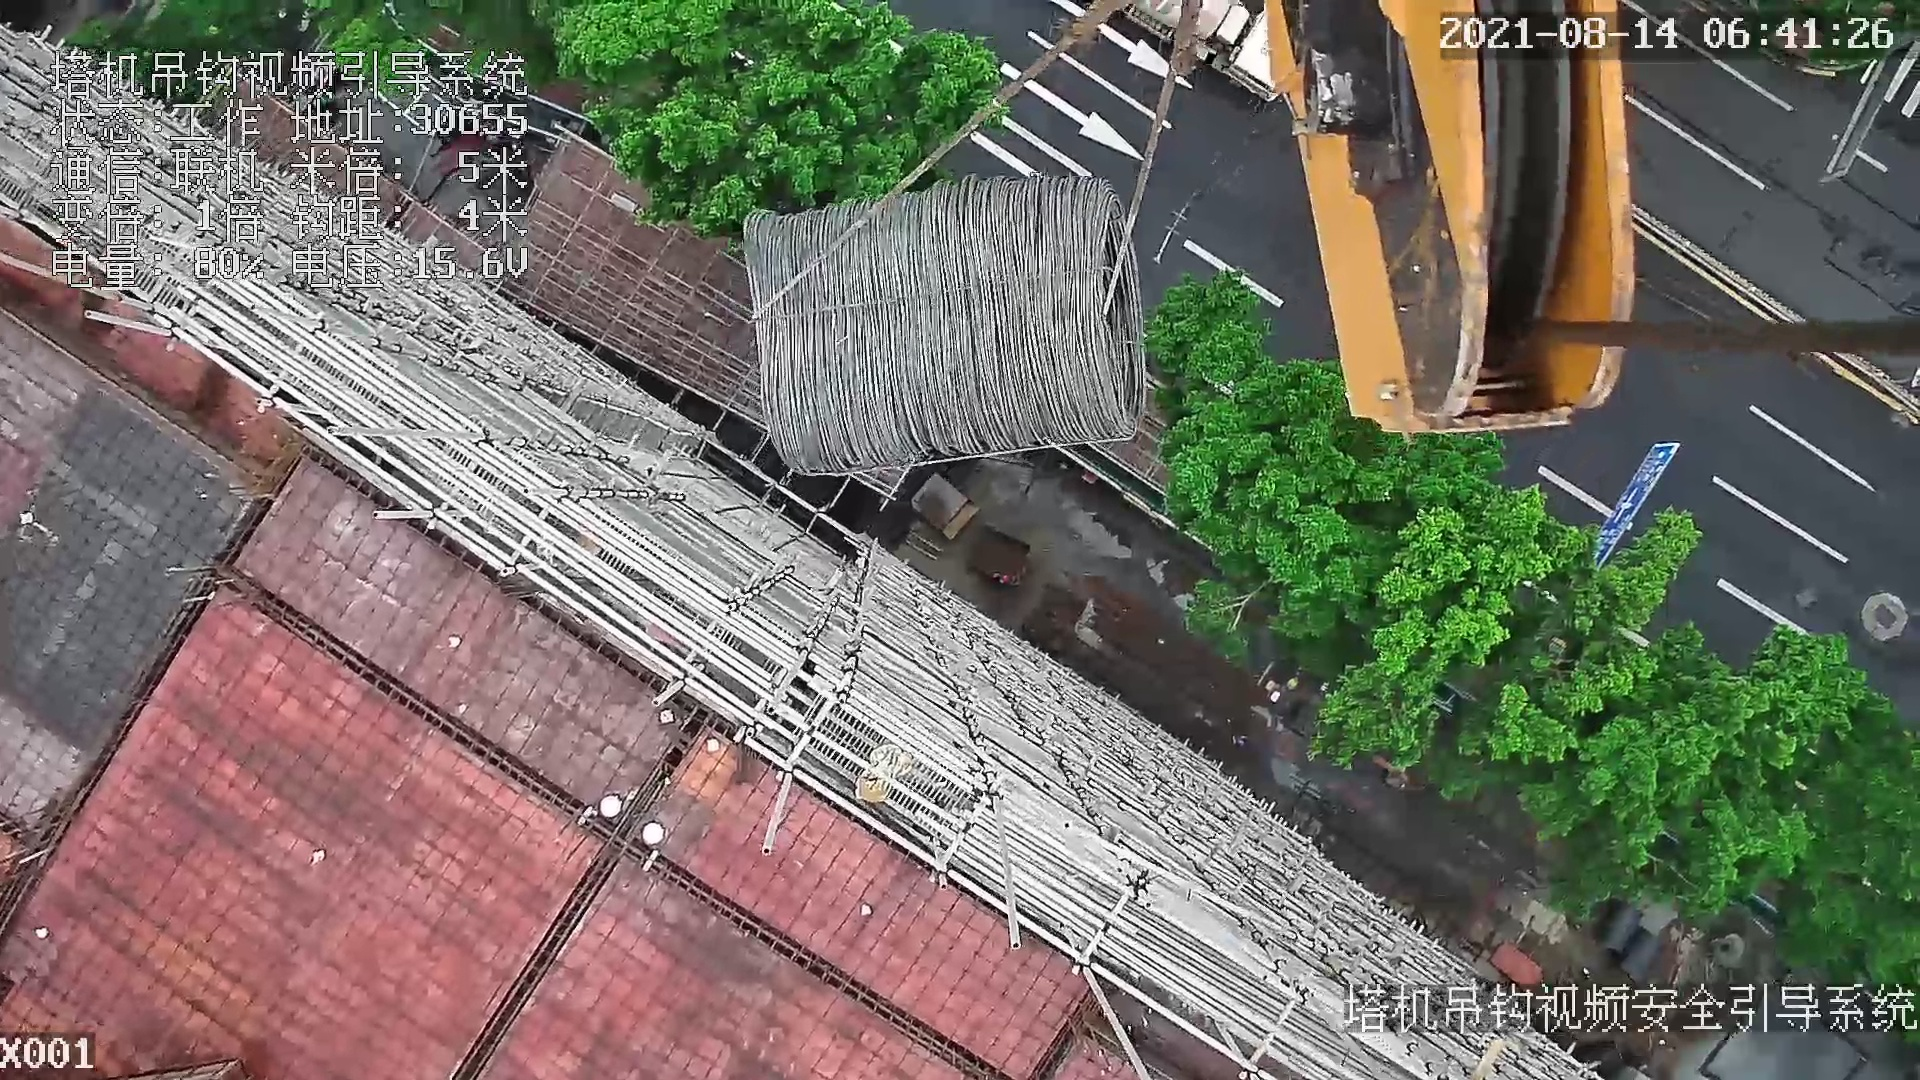hook: (1236, 1, 1642, 440)
